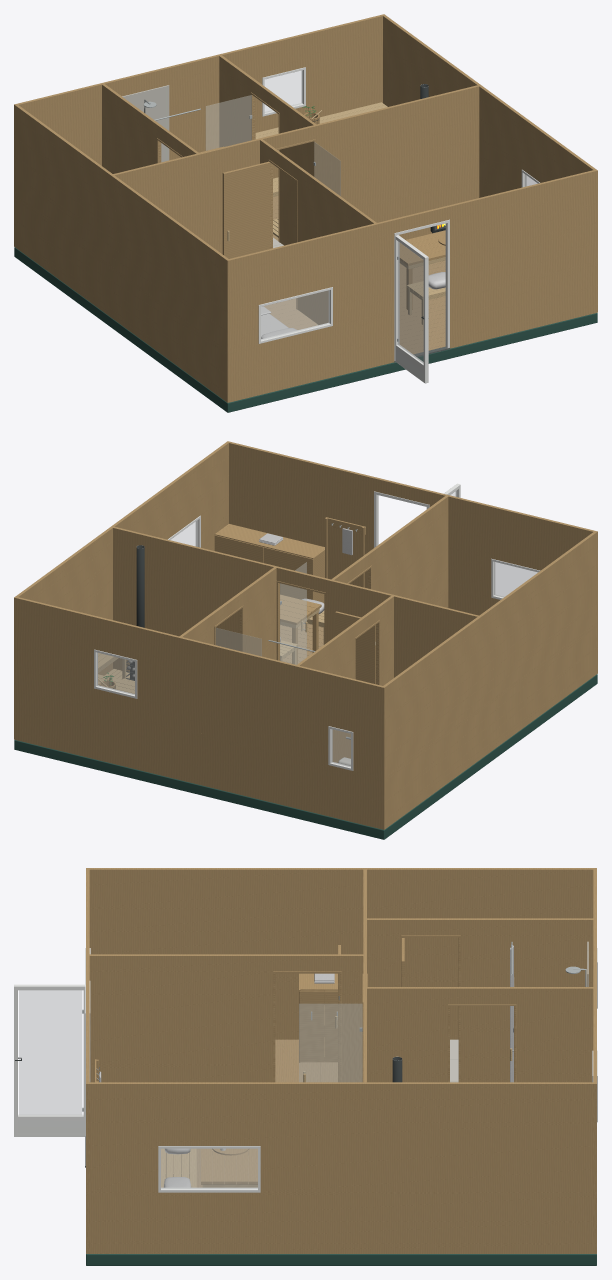
The picture shows the model from 3 angles, top to bottom: view 1: azimuth 30°, elevation 25°; view 2: azimuth 150°, elevation 25°; view 3: azimuth 270°, elevation 25°; orthographic projection. The views are drawn at different scales.
Parts seen in each view (by area): view 1: DP11-W01, DP11-W03, DP11-W07, DP11-W02, DP11-W04, Dimensioned foundation, DP11-W06, DP11-W08, Hinge_DP11-D05, DP11-W05, Hinge_DP11-D04, Window p11_i4000 (+11 smaller); view 2: DP11-W02, DP11-W03, DP11-W01, DP11-W07, DP11-W04, DP11-W08, Dimensioned foundation, DP11-W05, DP11-W06, Ш2 storage, Hinge_DP11-D02, Window p11_i3996 (+11 smaller); view 3: DP11-W04, DP11-W03, DP11-W08, DP11-W05, DP11-W06, Hinge_DP11-D05, Dimensioned foundation, Hinge_DP11-D02, Window p11_i4002, Ш1 storage, С1 table, Floor bedroom (+9 smaller).
Boxes of the visible parts, bbox=[...] form: DP11-W01: bbox=[226, 169, 597, 402]; DP11-W03: bbox=[15, 105, 228, 401]; DP11-W07: bbox=[113, 85, 479, 253]; DP11-W02: bbox=[14, 14, 385, 247]; DP11-W04: bbox=[383, 15, 595, 197]; Dimensioned foundation: bbox=[14, 247, 597, 412]; DP11-W06: bbox=[219, 55, 316, 245]; DP11-W08: bbox=[260, 139, 376, 324]; Hinge_DP11-D05: bbox=[395, 235, 428, 383]; DP11-W05: bbox=[102, 84, 198, 173]; Hinge_DP11-D04: bbox=[222, 161, 269, 258]; Window p11_i4000: bbox=[258, 287, 332, 343]; DP11-W02: bbox=[14, 596, 385, 829]; DP11-W03: bbox=[383, 532, 596, 828]; DP11-W01: bbox=[226, 441, 597, 674]; DP11-W07: bbox=[113, 526, 478, 677]; DP11-W04: bbox=[16, 442, 228, 675]; DP11-W08: bbox=[331, 496, 448, 607]; Dimensioned foundation: bbox=[14, 674, 597, 839]; DP11-W05: bbox=[297, 596, 393, 762]; DP11-W06: bbox=[180, 567, 276, 659]; Ш2 storage: bbox=[214, 533, 313, 599]; Hinge_DP11-D02: bbox=[280, 562, 307, 664]; Window p11_i3996: bbox=[94, 649, 137, 698]; DP11-W04: bbox=[89, 1082, 593, 1253]; DP11-W03: bbox=[89, 868, 593, 1039]; DP11-W08: bbox=[89, 954, 363, 1082]; DP11-W05: bbox=[367, 918, 593, 1082]; DP11-W06: bbox=[367, 987, 593, 1082]; Hinge_DP11-D05: bbox=[14, 984, 85, 1136]; Dimensioned foundation: bbox=[86, 1254, 596, 1265]; Hinge_DP11-D02: bbox=[299, 1004, 362, 1082]; Window p11_i4002: bbox=[158, 1146, 260, 1192]; Ш1 storage: bbox=[299, 973, 337, 1062]; С1 table: bbox=[201, 1148, 257, 1184]; Floor bedroom: bbox=[275, 1039, 337, 1082].
Size of the model in its own units: 6.01 by 2.36 by 6.85.
Materials: 33 (14 with a texture image).
